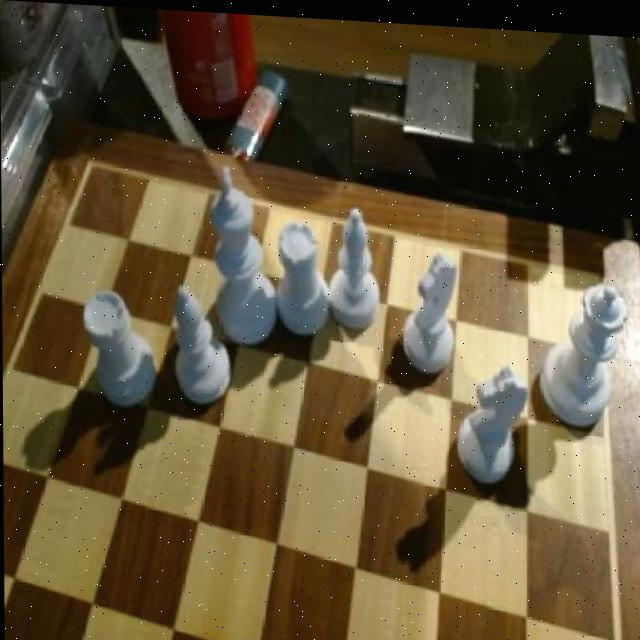white-queen: (81, 285, 158, 410), (171, 280, 231, 404), (276, 213, 333, 335)
